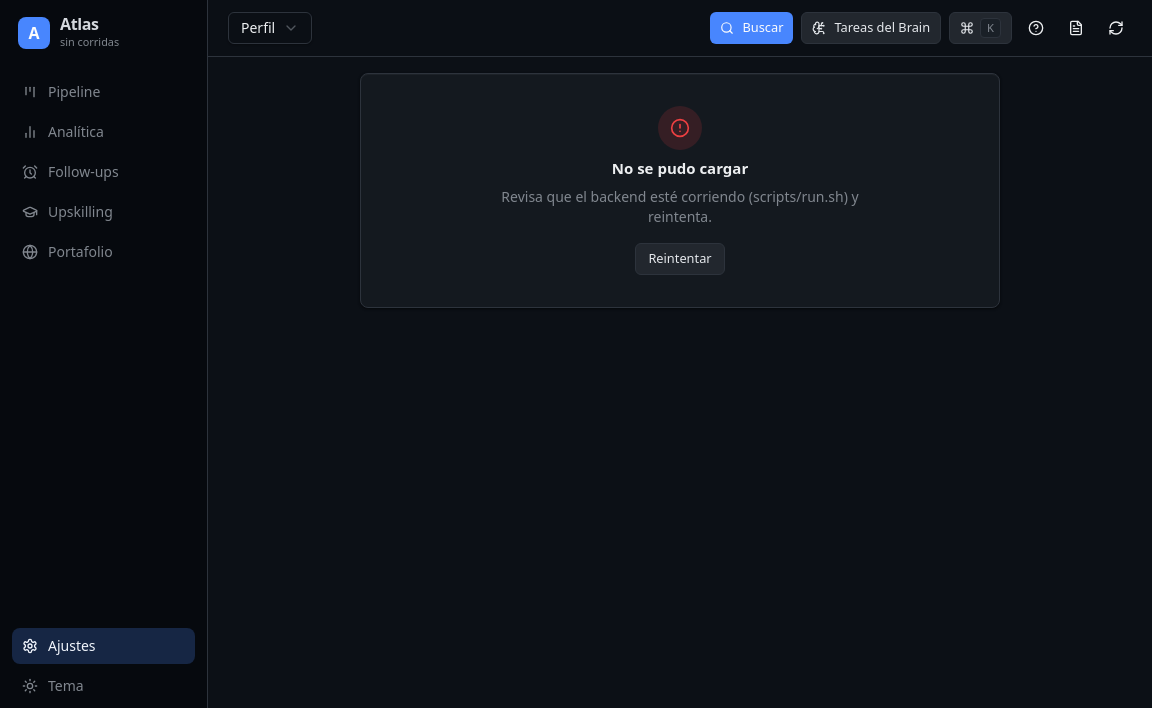
Test case: SettingsPage › si /api/settings falla muestra ErrorState y Reintentar recupera al éxito
expect the text "No se pudo cargar" is shown: met, box [612,158,748,179]
Click the button "Reintentar" at (680, 259), box [635,243,725,275]
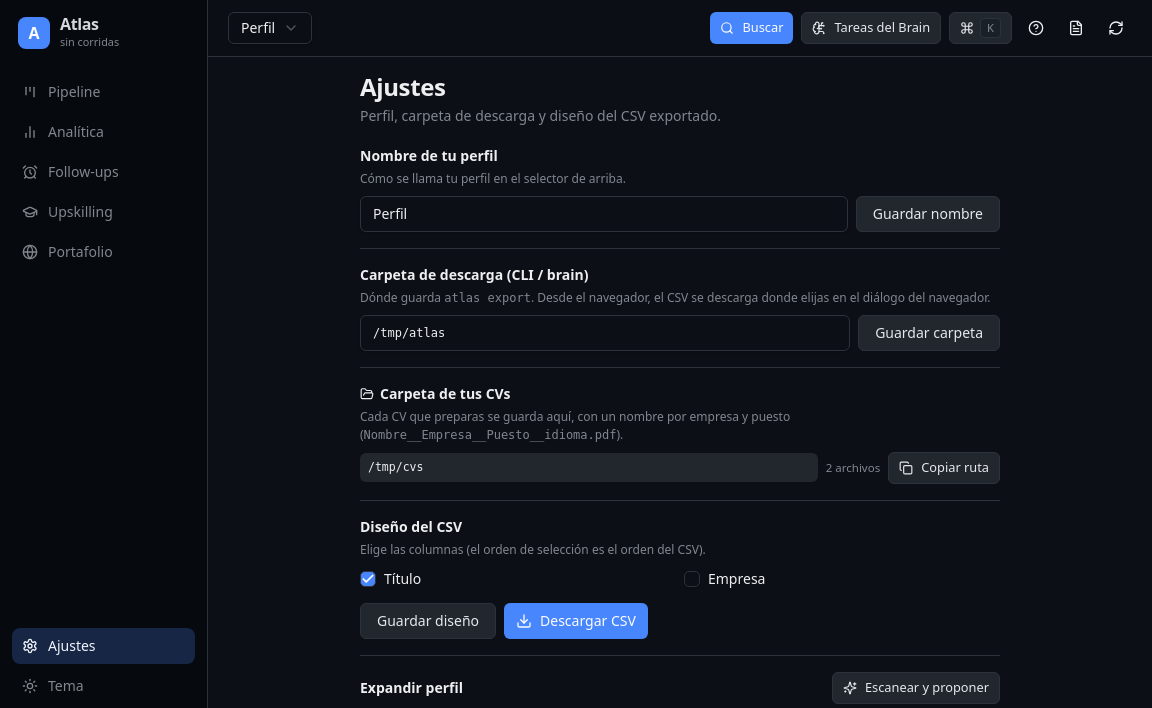
expect the text "Nombre de tu perfil" is shown: met, box [360,146,498,165]
expect the text "No se pudo cargar" is gone: met
